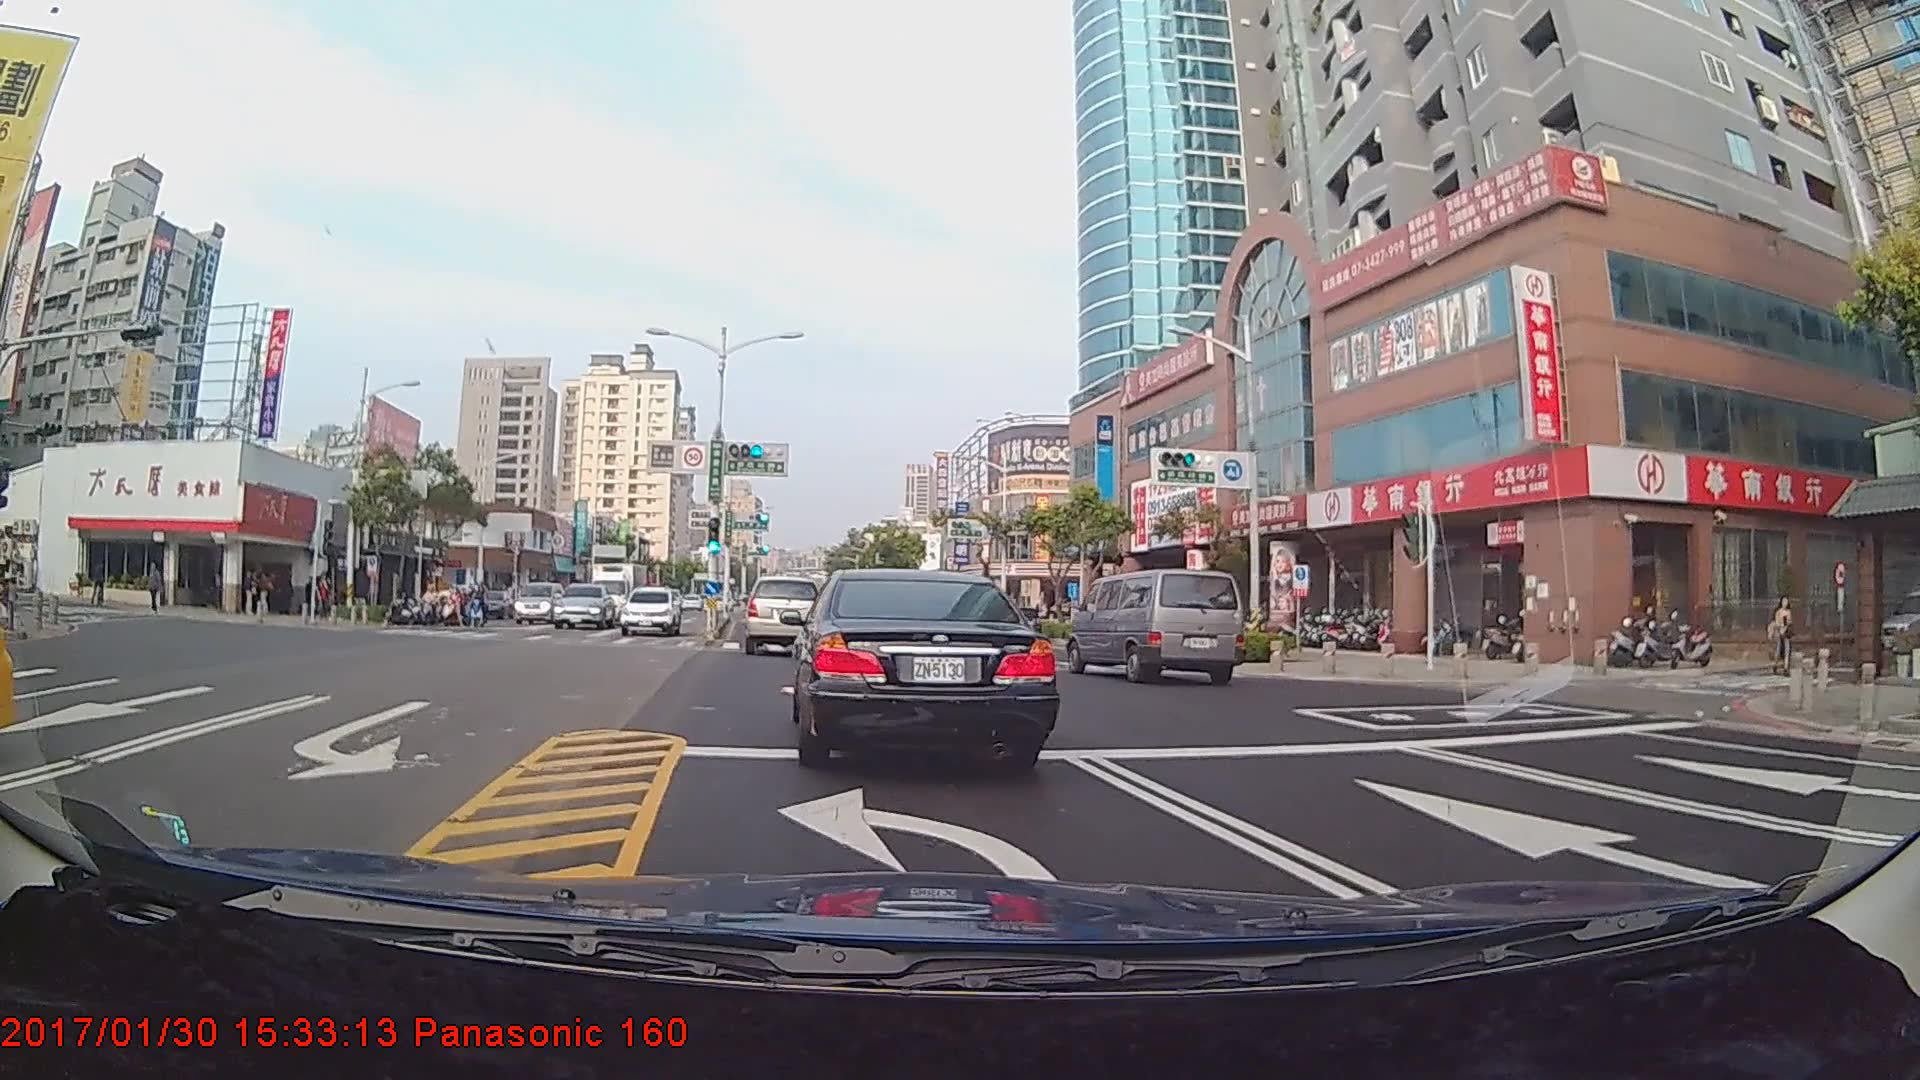pedestrian: (1773, 591, 1797, 663), (244, 568, 264, 618), (145, 563, 165, 612), (257, 571, 277, 619)
vehicle: (786, 563, 1052, 769), (1075, 566, 1241, 684), (743, 576, 823, 653), (599, 554, 659, 626), (551, 582, 618, 630), (621, 584, 681, 636), (514, 579, 570, 625)
